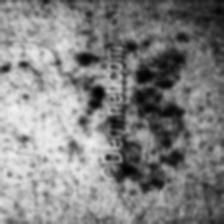Potentially Malignant Skin Tumors: (136, 105, 188, 164), (130, 54, 188, 104)
